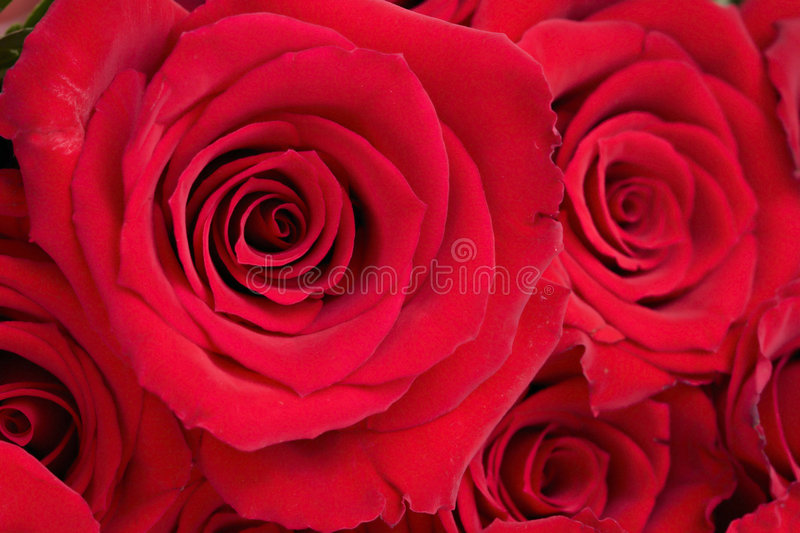RedRose: (2, 2, 589, 533), (505, 1, 799, 387), (0, 258, 195, 533), (437, 376, 682, 533)
